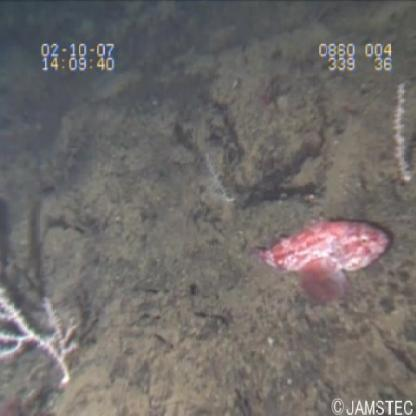Bio: (242, 205, 401, 312)
